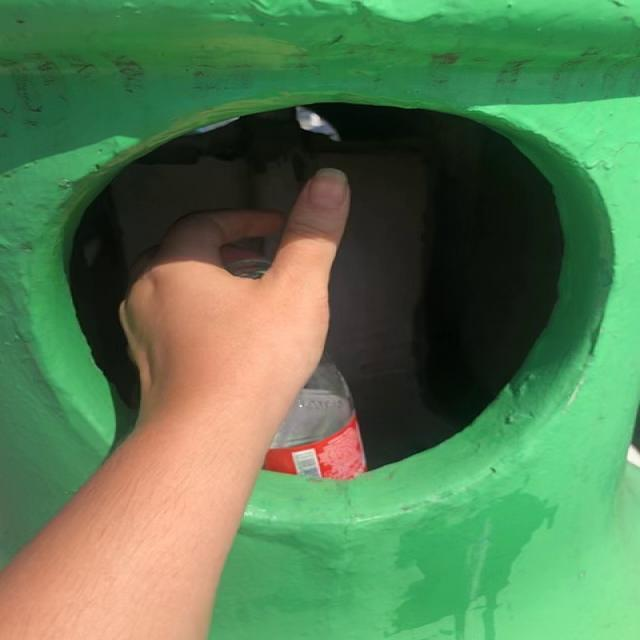Glass: (263, 356, 367, 480), (224, 259, 268, 279)
